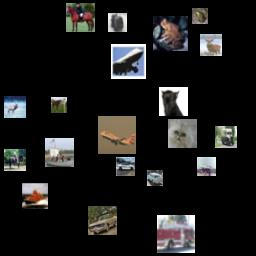airplane: (98, 116, 136, 154), (111, 44, 146, 79), (197, 157, 216, 176)
automobile: (88, 206, 117, 235), (116, 157, 135, 176), (147, 170, 163, 186)
cat: (168, 119, 197, 148)
deer: (200, 34, 222, 56), (4, 96, 26, 118)
dog: (159, 87, 188, 116), (108, 13, 127, 32)
frog: (153, 16, 188, 51), (192, 8, 208, 24)
ship: (45, 138, 74, 167), (22, 183, 48, 209)
truck: (157, 215, 195, 253), (215, 126, 237, 148)
